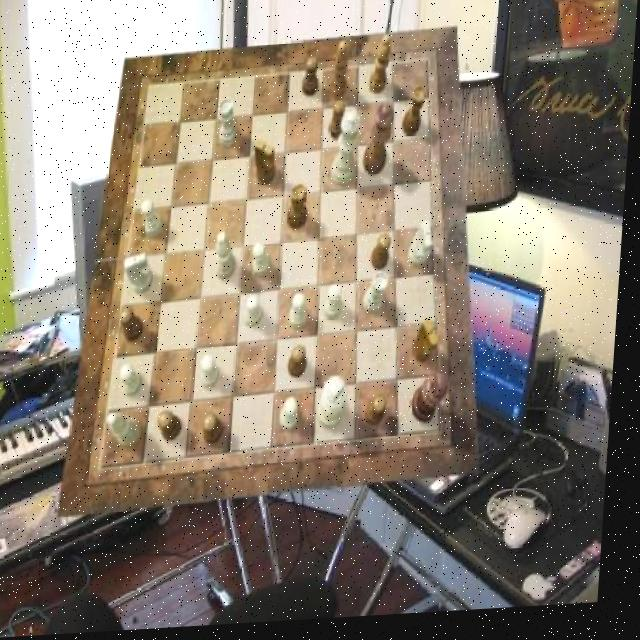bishop: (371, 39, 394, 99), (331, 45, 352, 105)
black-bishop: (416, 376, 456, 430)
black-king: (417, 323, 446, 368), (254, 142, 279, 188)
black-knight: (123, 308, 149, 343), (164, 412, 189, 444), (374, 239, 395, 276), (208, 416, 230, 448), (330, 105, 348, 144), (303, 62, 321, 101), (292, 349, 312, 383), (372, 401, 393, 433)
black-pawn: (367, 109, 398, 183)
black-queen: (404, 91, 429, 141), (290, 188, 312, 235)
black-rook: (111, 412, 149, 450), (218, 235, 242, 285)
white-bishop: (323, 380, 355, 435)
white-king: (126, 253, 158, 297), (412, 225, 439, 272)
white-knight: (144, 201, 169, 239), (123, 366, 148, 401), (205, 356, 226, 392), (286, 402, 307, 437), (293, 297, 314, 332), (328, 288, 348, 324), (255, 245, 275, 281), (249, 297, 269, 331)
white-pawn: (334, 115, 365, 191)
white-queen: (219, 99, 242, 149), (367, 278, 394, 319)
